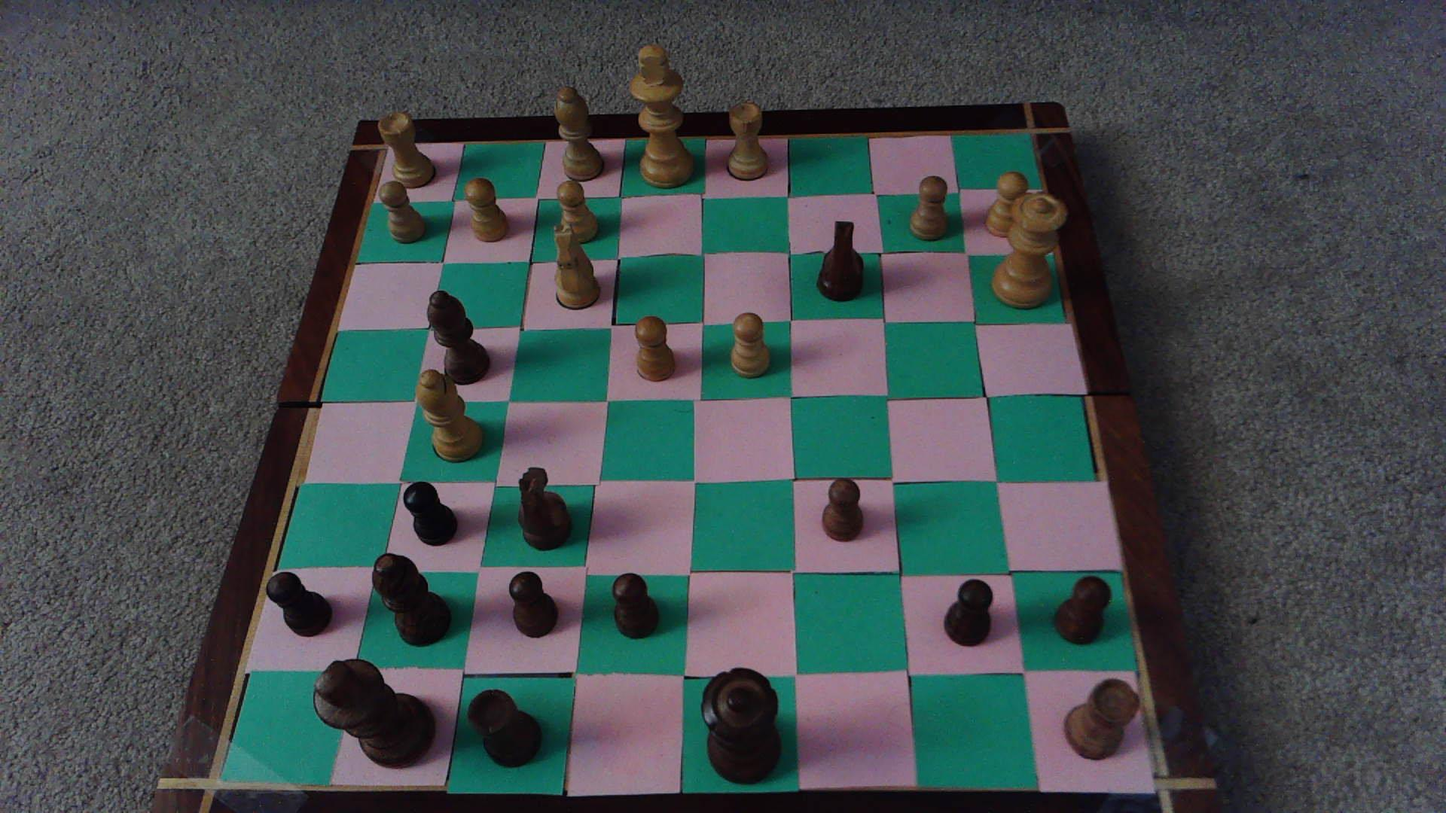dark_piece: (314, 659, 434, 766), (703, 668, 780, 783), (374, 554, 450, 645), (1064, 679, 1139, 759), (428, 290, 488, 384), (467, 689, 540, 766), (519, 467, 571, 550), (266, 573, 331, 636), (1055, 576, 1110, 644), (818, 222, 862, 300), (403, 482, 456, 545), (944, 579, 992, 645), (509, 571, 557, 637), (612, 573, 658, 638), (822, 479, 862, 540)
white_piece: (630, 46, 695, 188), (992, 193, 1066, 306), (416, 370, 482, 461), (553, 86, 602, 182), (551, 221, 602, 310), (379, 111, 434, 188), (728, 102, 767, 181), (983, 171, 1028, 237), (379, 181, 426, 244), (465, 178, 509, 241), (556, 181, 598, 244), (635, 316, 675, 380), (731, 312, 769, 377), (910, 176, 947, 239)
